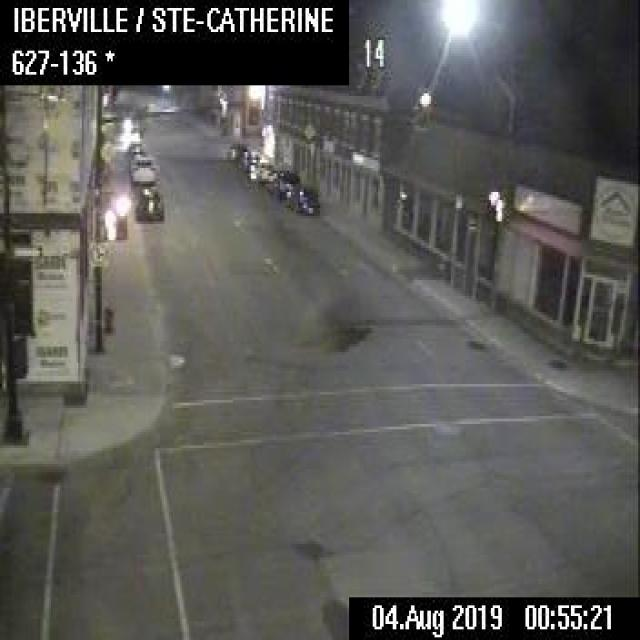vehicle: (132, 180, 164, 222), (127, 152, 158, 184), (287, 183, 320, 213), (267, 168, 298, 199), (251, 154, 275, 182), (225, 139, 248, 162), (237, 148, 259, 171)
